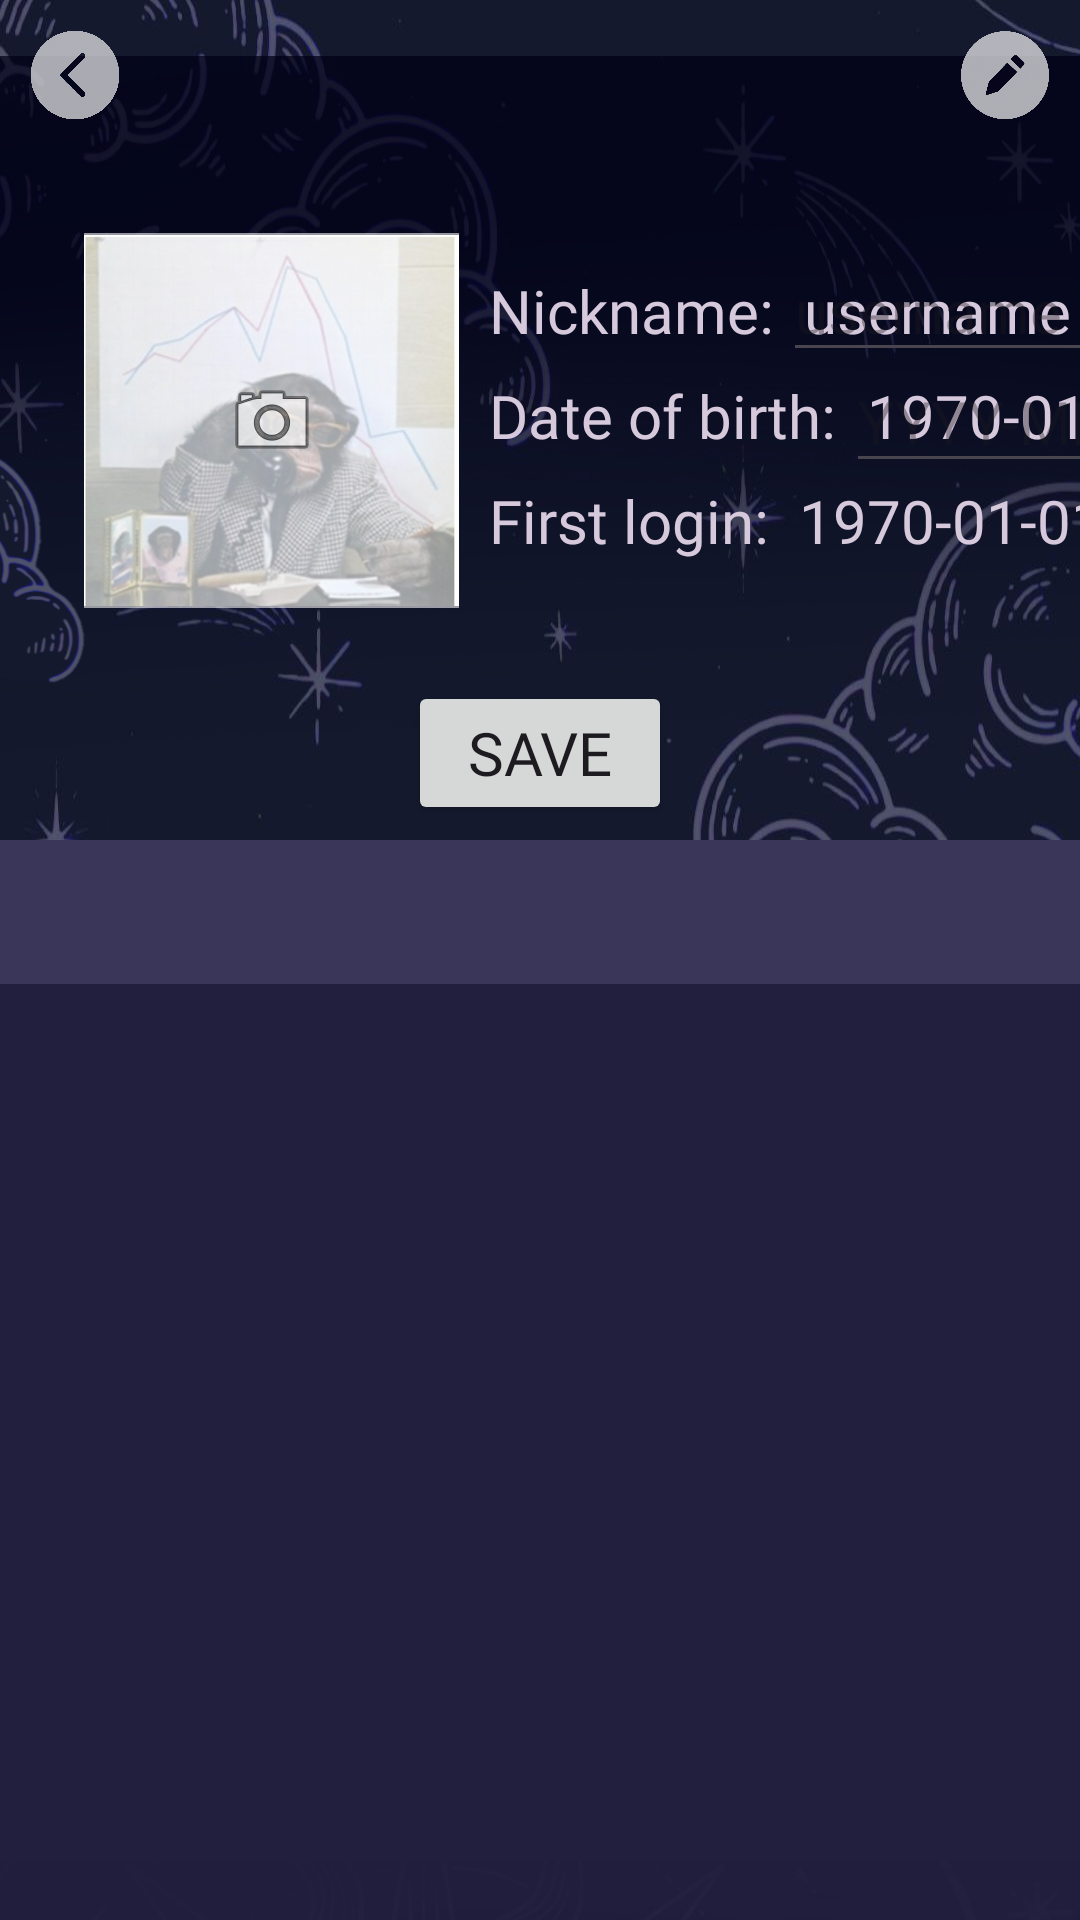

Icon click points for this 1080px x 1920px phone screenshot, format (x,y):
custom back: (75,74)
custom edit: (1005,74)
